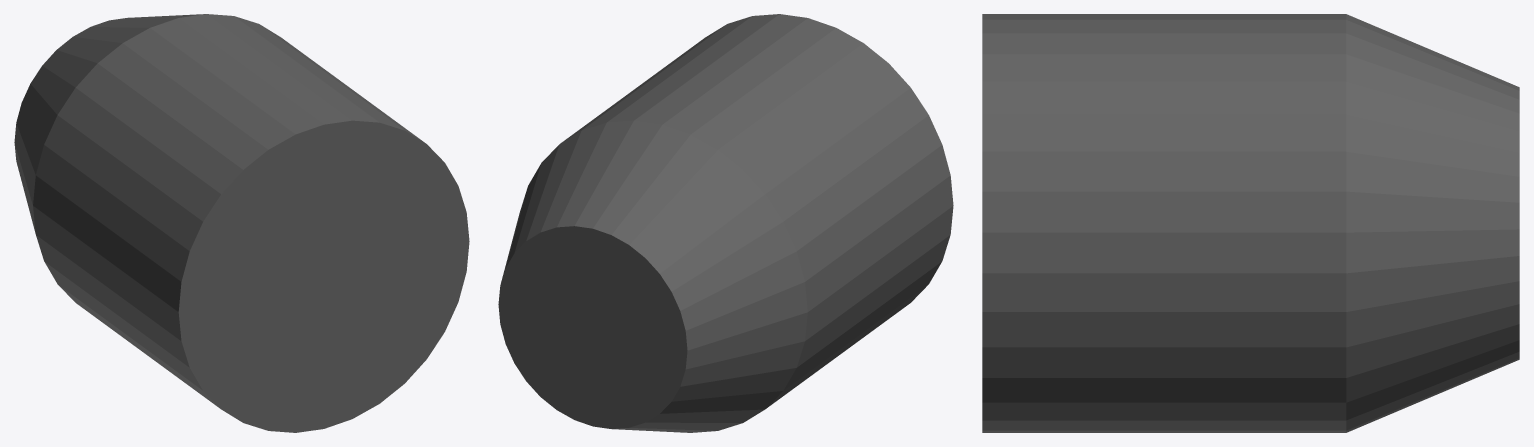
File: Bullet.obj
The picture shows the model from 3 angles, left to right: view 1: azimuth 30°, elevation 25°; view 2: azimuth 150°, elevation 25°; view 3: azimuth 270°, elevation 25°; orthographic projection. The views are drawn at different scales.
Visible parts, largest first — view 1: 円柱.001; view 2: 円柱.001; view 3: 円柱.001.
Part boxes in pixels (bbox=[...]): 円柱.001: bbox=[14, 14, 469, 432]; 円柱.001: bbox=[498, 14, 953, 432]; 円柱.001: bbox=[982, 14, 1519, 432].
Bounding box in the file's own units: 1.9 × 1.9 × 2.43.
1 material, 1 textured.
